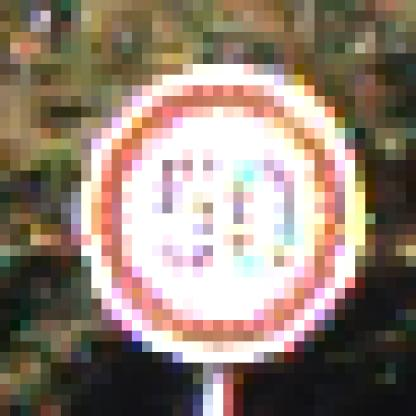Speed Limit 50: (96, 79, 346, 351)
